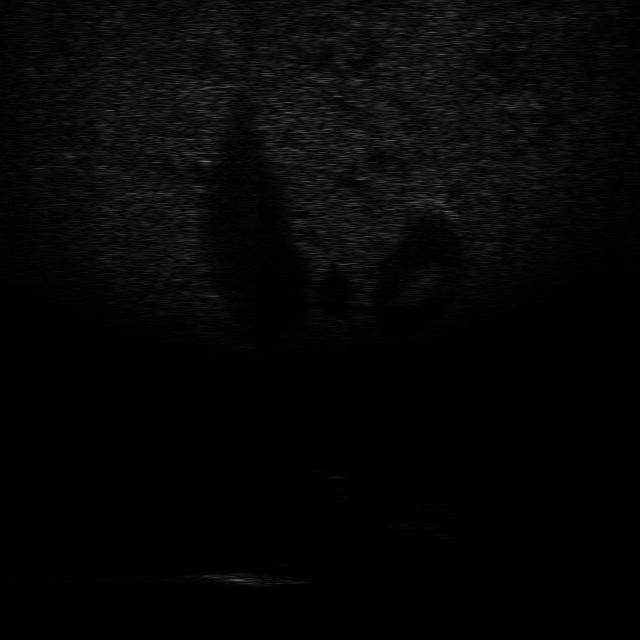ball: (313, 453, 362, 481)
metal bucket: (188, 558, 308, 588)
tyre: (374, 496, 460, 534)
